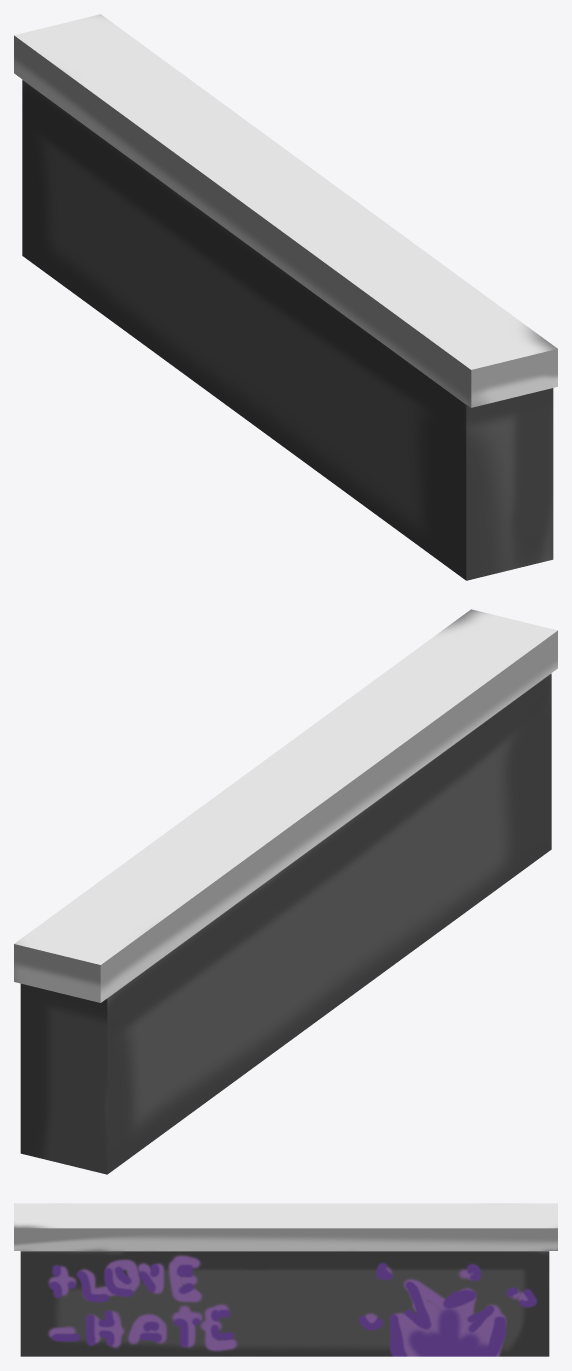
Rendered from muro2texturacomgraffiti.fbx.
3 views of the same model, one above another, from view 1: azimuth 30°, elevation 25°; view 2: azimuth 150°, elevation 25°; view 3: azimuth 270°, elevation 25° (orthographic). The views are drawn at different scales.
Visible parts, largest first — view 1: Cube; view 2: Cube; view 3: Cube.
Boxes of the visible parts, x1=… form: Cube: x1=14, y1=14, x2=557, y2=580; Cube: x1=14, y1=609, x2=557, y2=1174; Cube: x1=14, y1=1203, x2=557, y2=1356.
Size of the model in its own units: 79.94 by 188 by 722.
